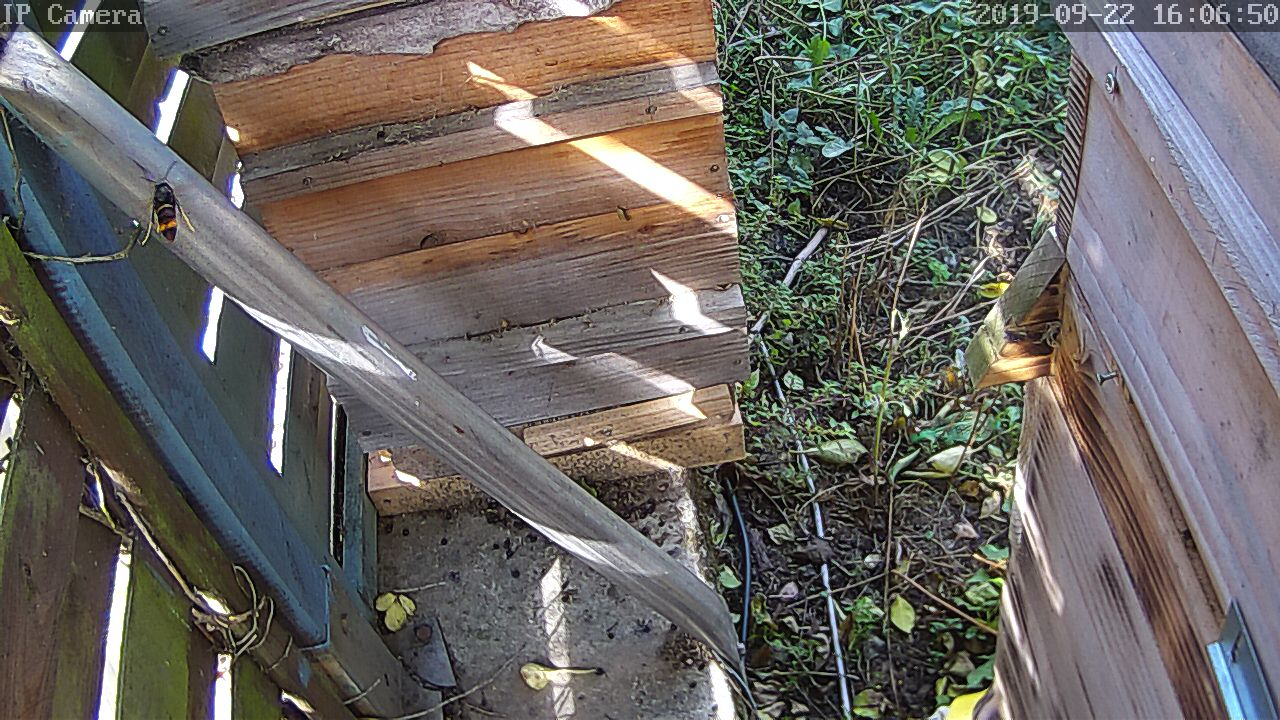hornet: (136, 181, 191, 242)
